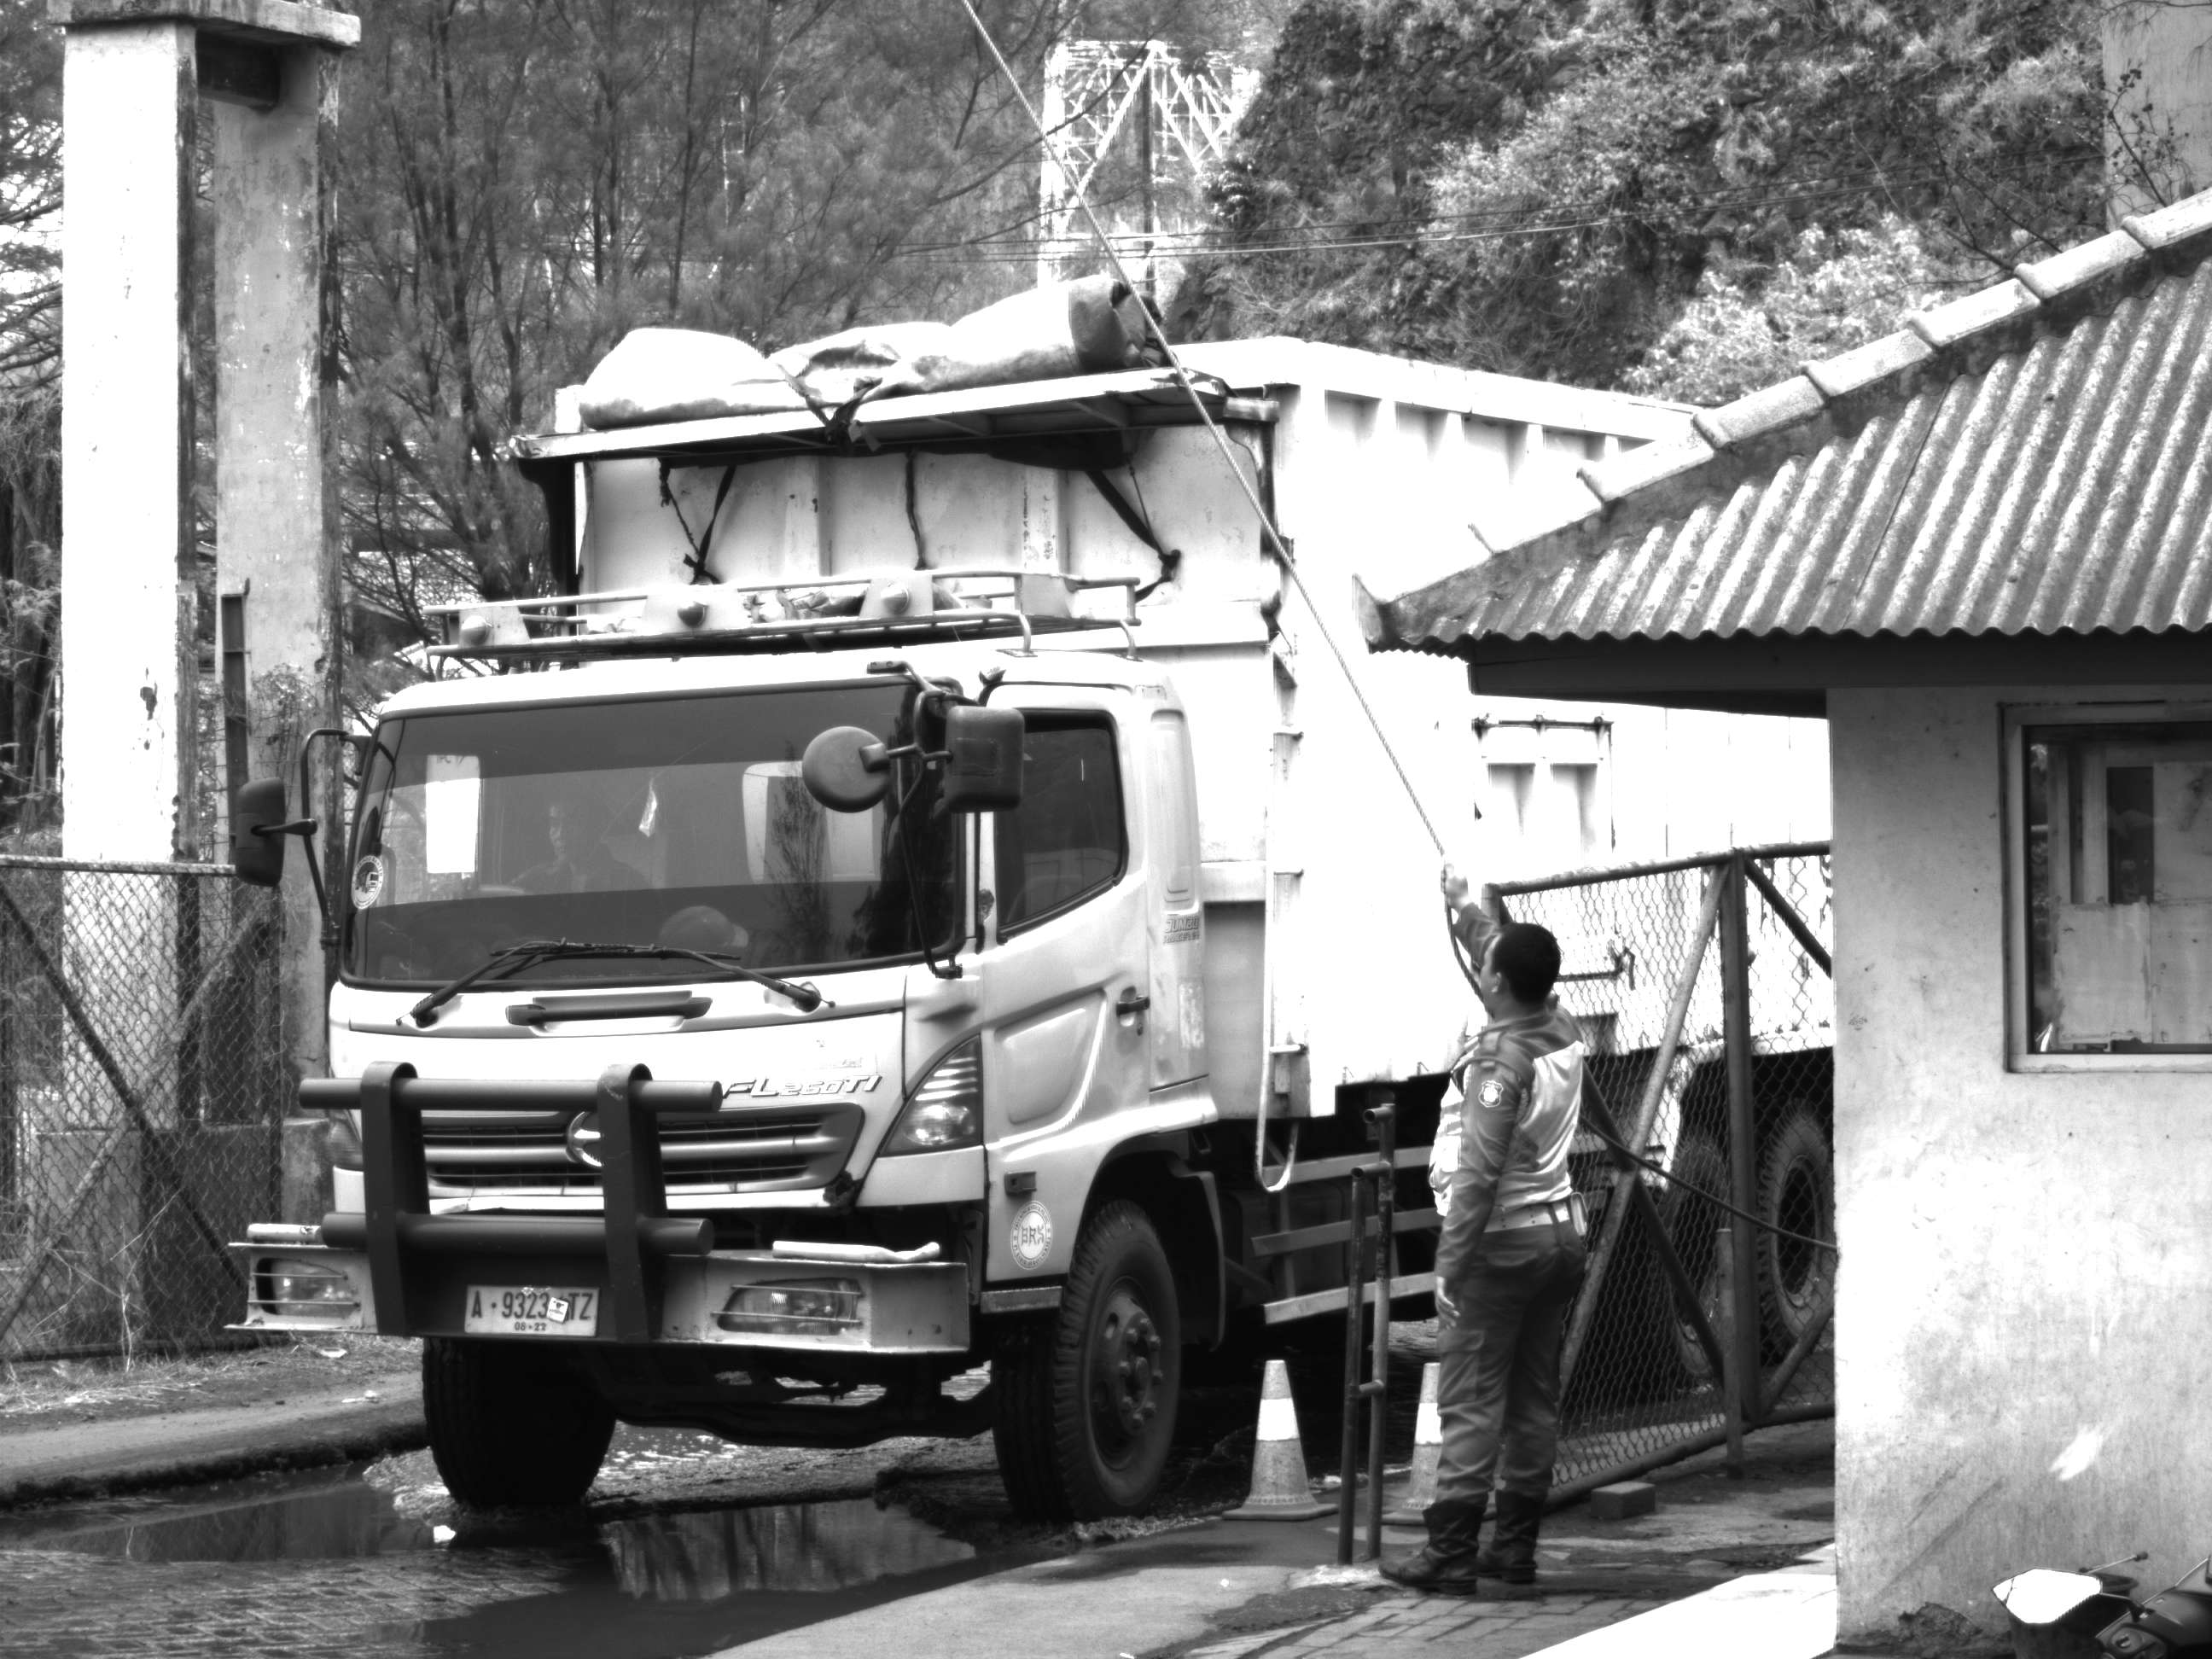day_truck_front: (226, 665, 1252, 1543)
plate: (463, 1278, 600, 1339)
